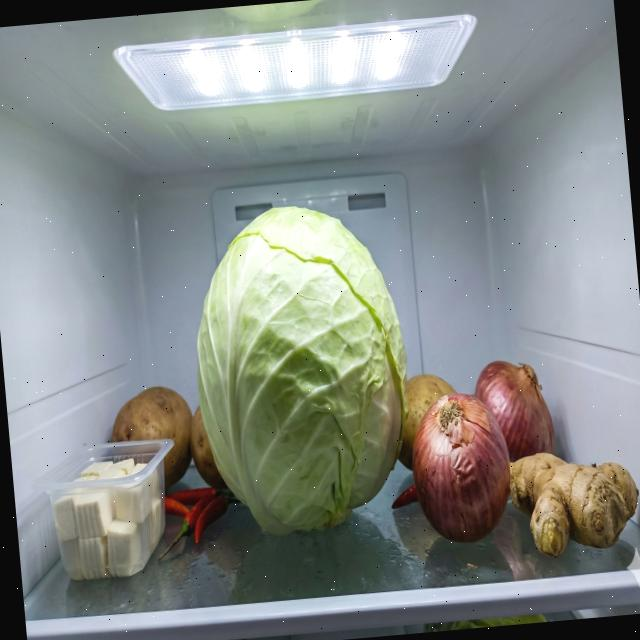cabbage: (182, 195, 422, 543)
chili: (150, 483, 234, 564)
ginger: (507, 445, 640, 562)
onion: (403, 357, 563, 548)
potato: (106, 382, 224, 496), (390, 370, 464, 471)
tofu: (48, 454, 169, 582)
